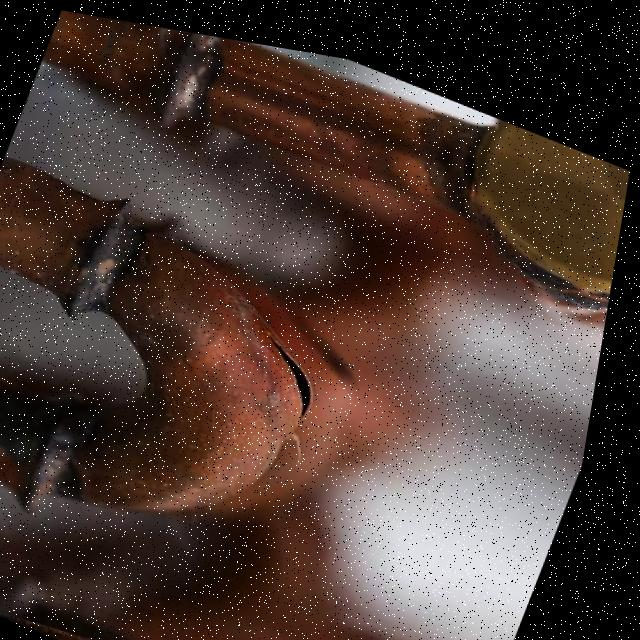crack: (277, 320, 336, 416)
